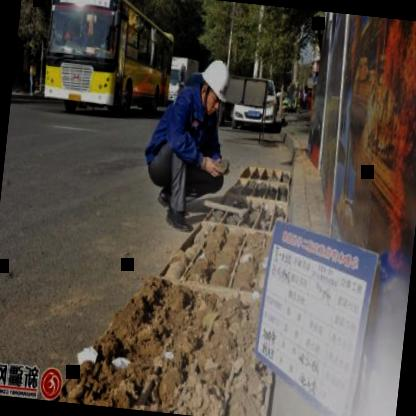helmet: (194, 54, 232, 118)
